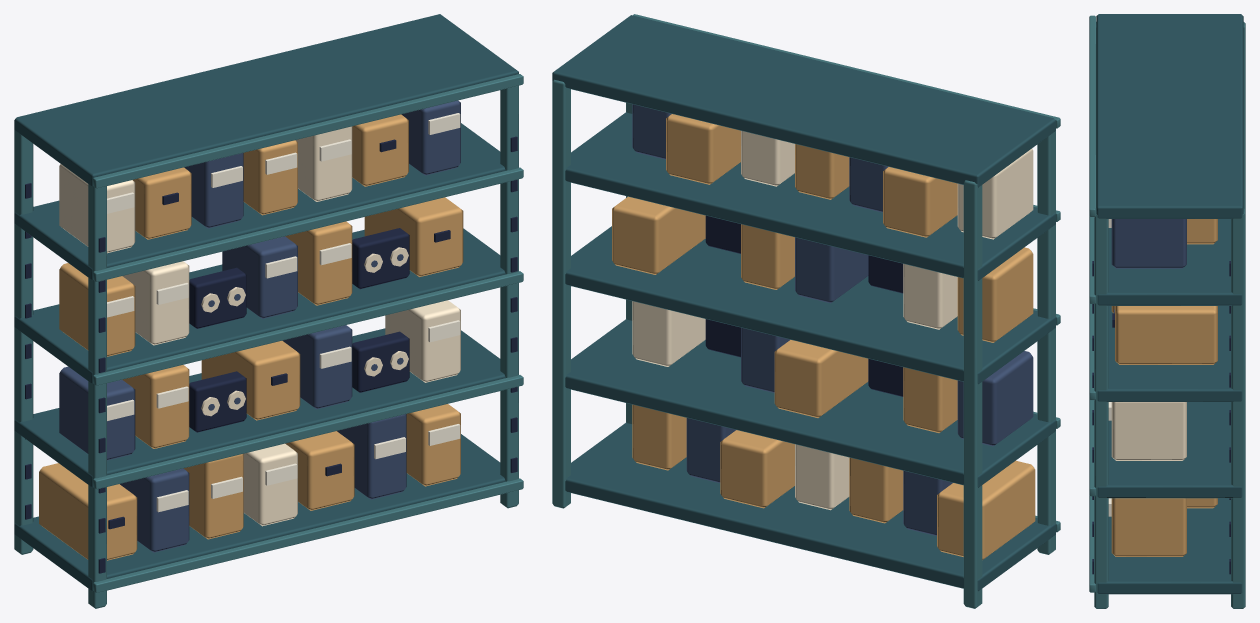
The model's file is archive_rack.glb.
3 views of the same model, side by side, from view 1: azimuth 30°, elevation 25°; view 2: azimuth 150°, elevation 25°; view 3: azimuth 270°, elevation 25° (orthographic). The views are drawn at different scales.
Parts seen in each view (by area): view 1: archive_rack; view 2: archive_rack; view 3: archive_rack.
Part boxes in pixels (left/top/right/bottom): archive_rack: left=14, top=14, right=523, bottom=608; archive_rack: left=552, top=14, right=1060, bottom=608; archive_rack: left=1089, top=14, right=1245, bottom=608.
Bounding box in the file's own units: 2.68 × 2.6 × 0.9135.
